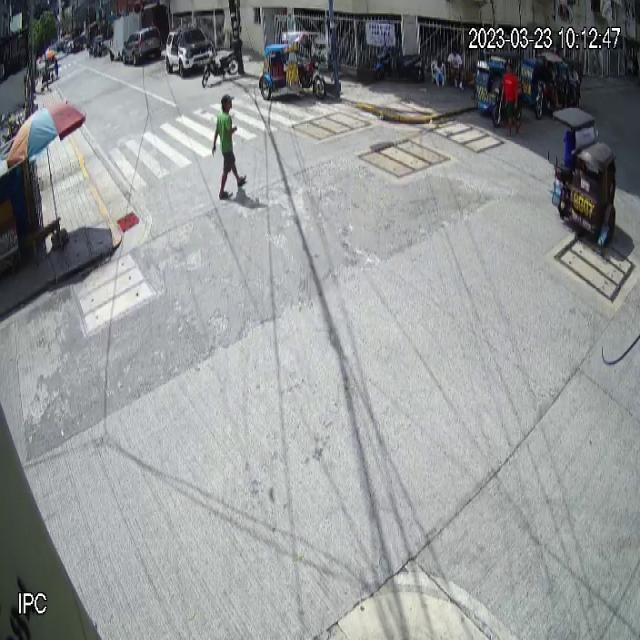Tricycle: (546, 106, 618, 249), (259, 30, 327, 104)
